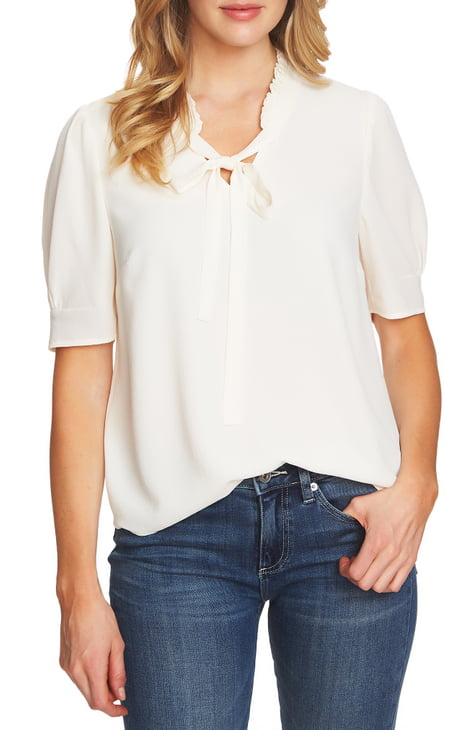C_jeans: (104, 465, 423, 730)
S_short blouse: (40, 57, 464, 541)
